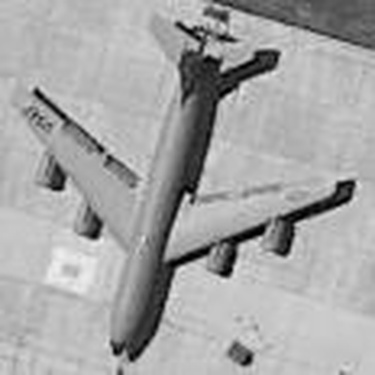airplane: (2, 4, 353, 369)
